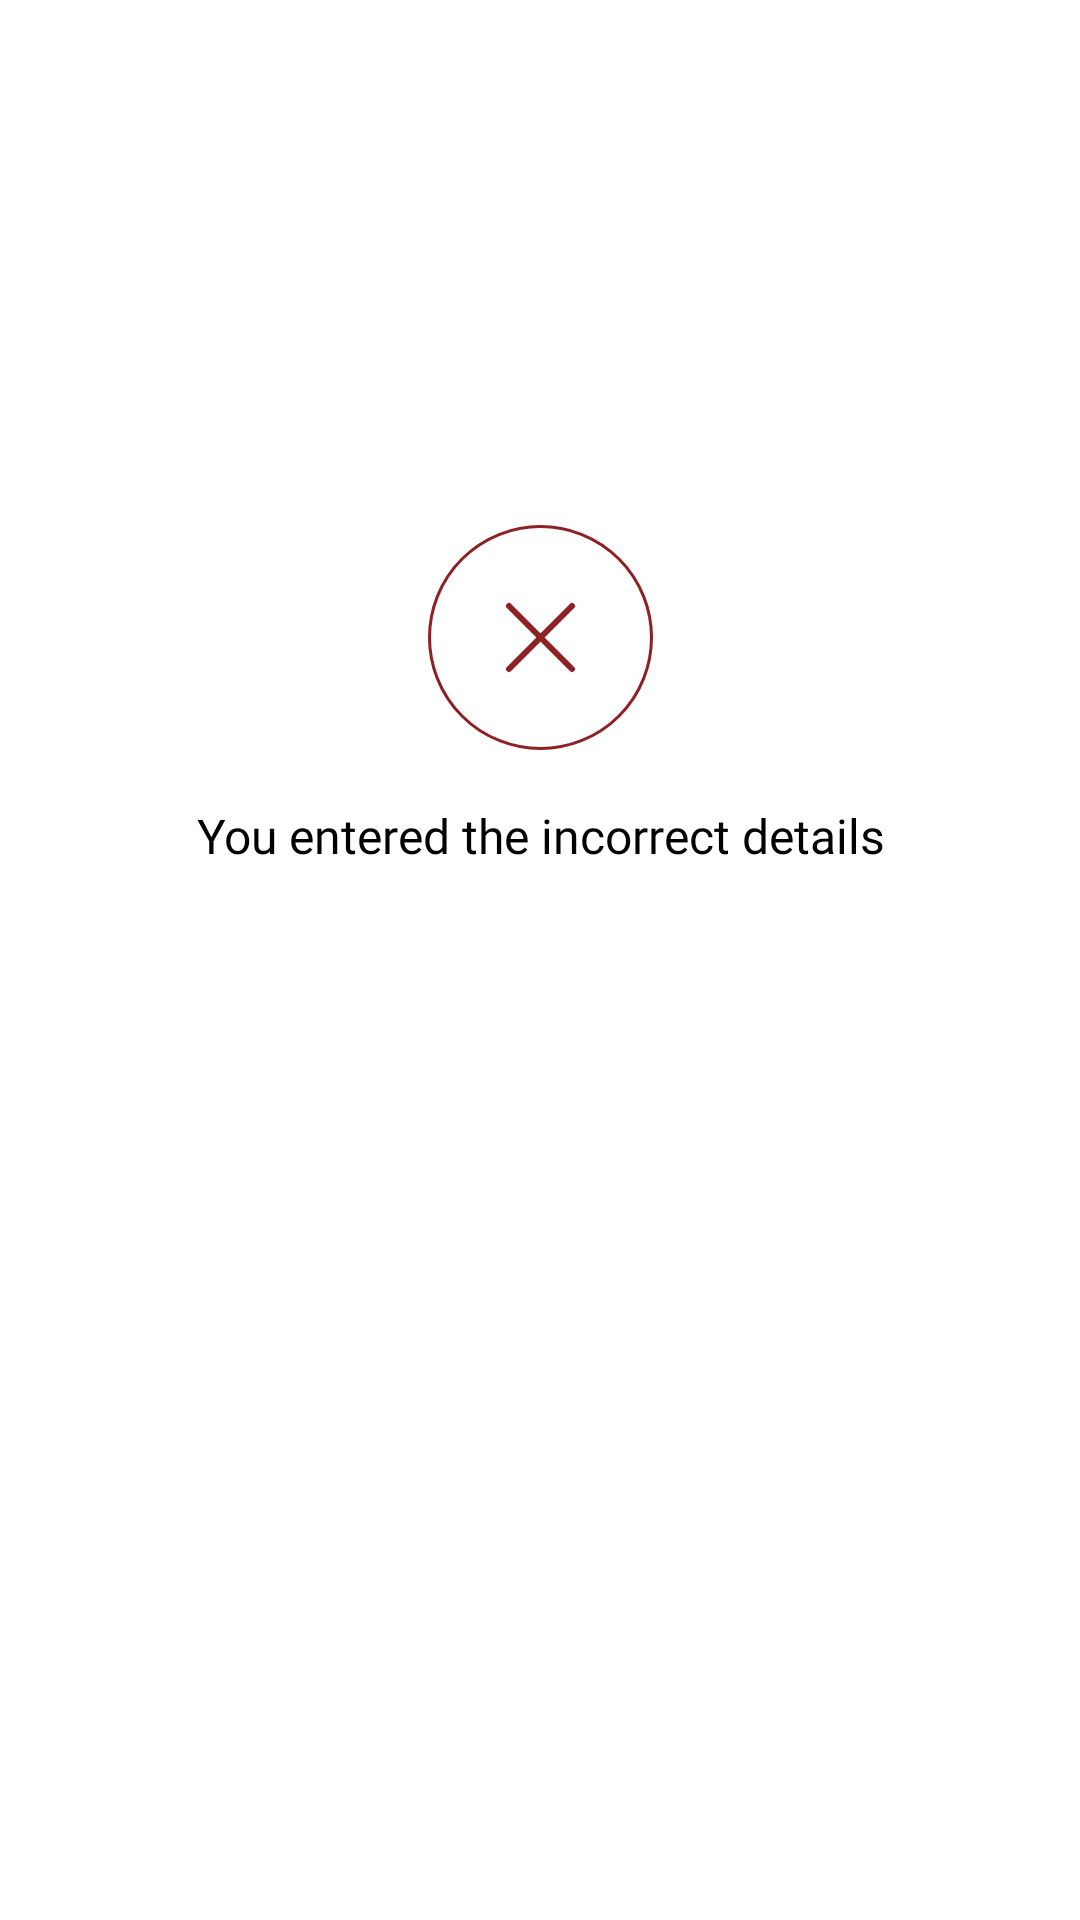

Icons on this 1080px x 1920px Android screen, each with the point to tap as (x=x, y=y):
bank auth invalid: (x=540, y=637)
